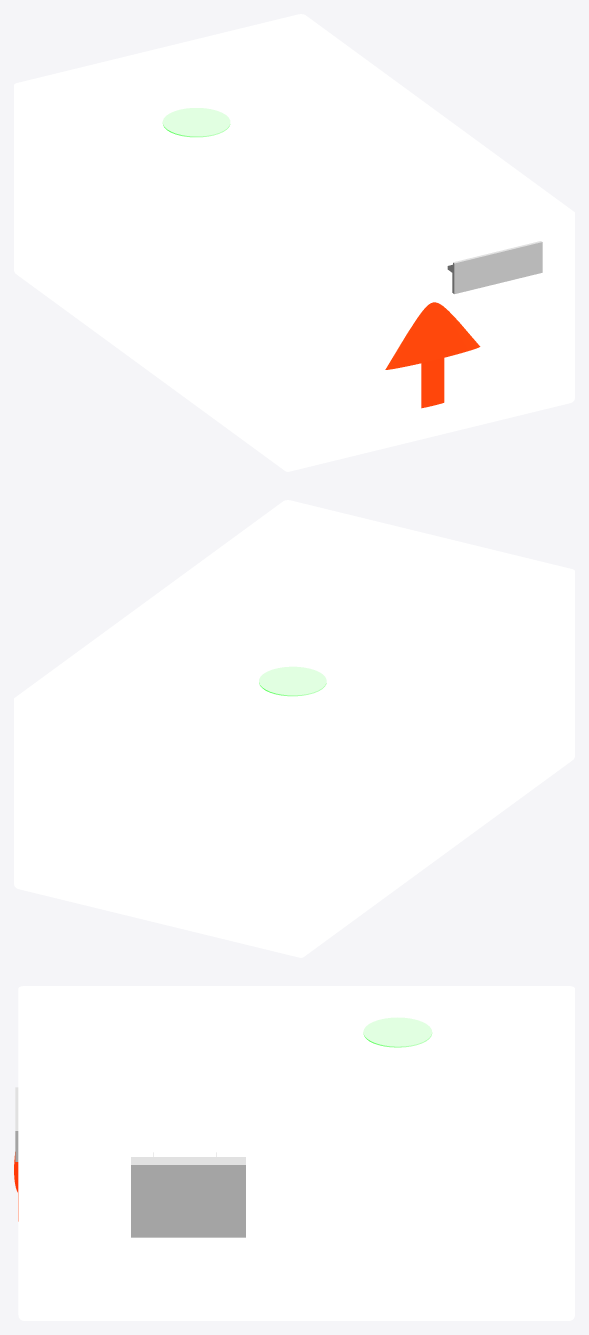
The picture shows the model from 3 angles, top to bottom: view 1: azimuth 30°, elevation 25°; view 2: azimuth 150°, elevation 25°; view 3: azimuth 270°, elevation 25°; orthographic projection.
Visible parts, largest first — view 1: box, arrow, usb, led; view 2: box, led; view 3: box, switch, led.
Part boxes in pixels (x1=…): box: x1=14, y1=14, x2=574, y2=471; arrow: x1=385, y1=302, x2=480, y2=408; usb: x1=447, y1=241, x2=542, y2=294; led: x1=162, y1=108, x2=230, y2=137; box: x1=14, y1=500, x2=574, y2=957; led: x1=259, y1=666, x2=326, y2=696; box: x1=18, y1=986, x2=574, y2=1320; switch: x1=131, y1=1152, x2=245, y2=1237; led: x1=363, y1=1017, x2=432, y2=1047.
Bounding box in the file's own units: 3.13 × 1.87 × 4.88.
